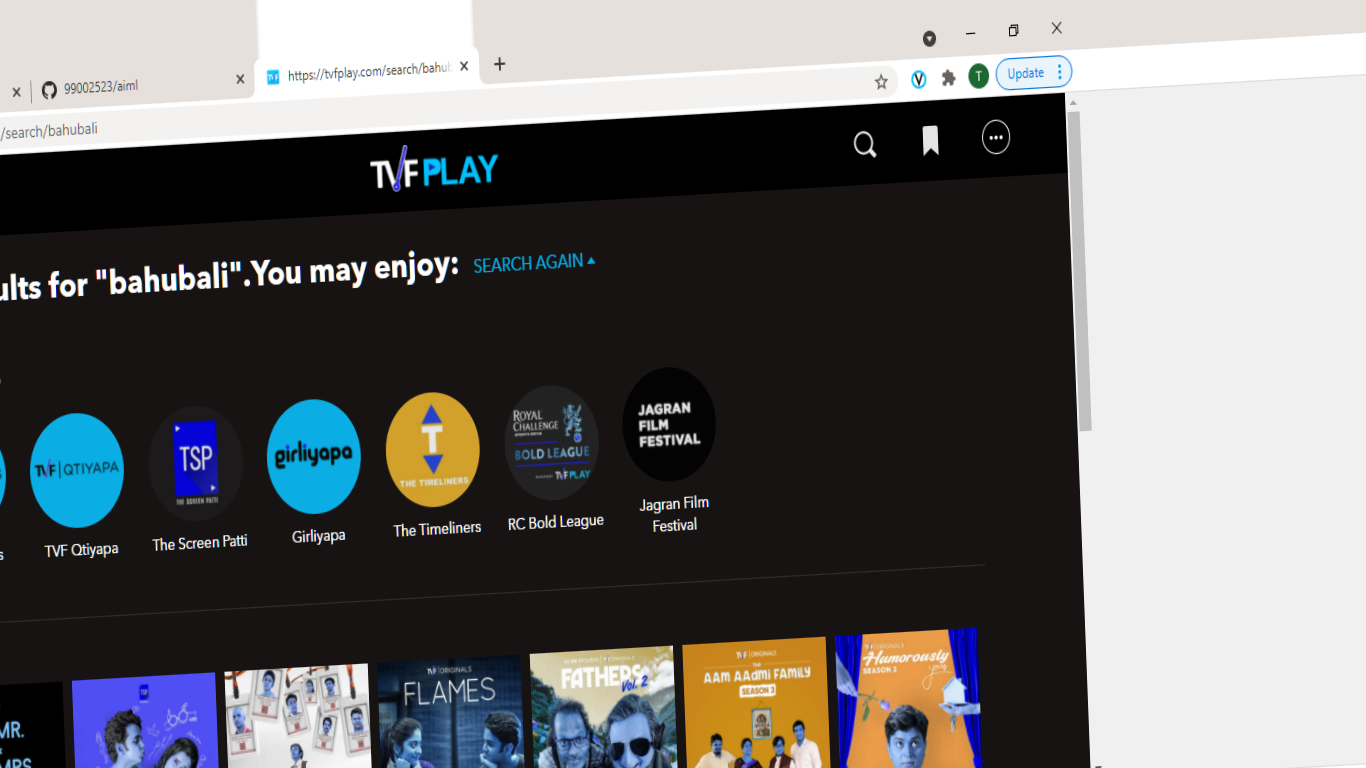searchicon: (844, 122, 897, 175)
